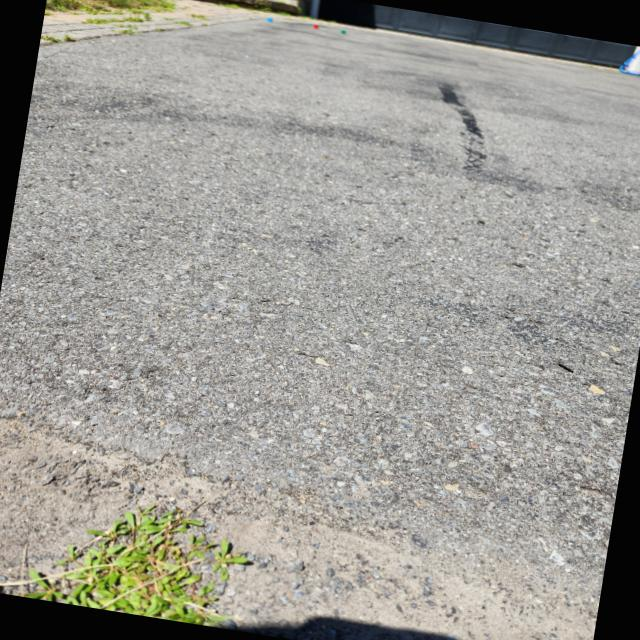bluecube: (266, 17, 274, 23)
green cube: (341, 30, 346, 34)
red cube: (313, 24, 319, 29)
